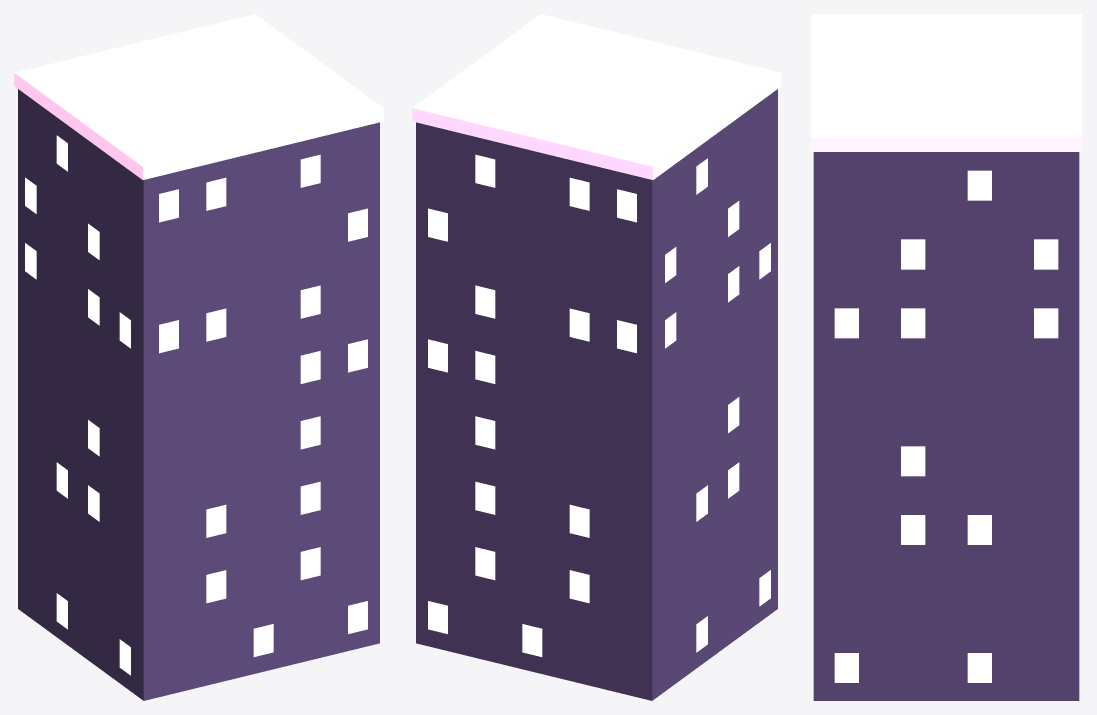
The model's file is skyline-v2-right-medium.glb.
The picture shows the model from 3 angles, left to right: view 1: azimuth 30°, elevation 25°; view 2: azimuth 150°, elevation 25°; view 3: azimuth 270°, elevation 25°; orthographic projection. The views are drawn at different scales.
Visible parts, largest first — view 1: skyline-v2-right-medium_0, skyline-v2-right-medium_4, skyline-v2-right-medium_1, skyline-v2-right-medium_2, skyline-v2-right-medium_3; view 2: skyline-v2-right-medium_0, skyline-v2-right-medium_4, skyline-v2-right-medium_1, skyline-v2-right-medium_2, skyline-v2-right-medium_3; view 3: skyline-v2-right-medium_0, skyline-v2-right-medium_4, skyline-v2-right-medium_1, skyline-v2-right-medium_2, skyline-v2-right-medium_3.
Part boxes in pixels (bbox=[...]): skyline-v2-right-medium_0: bbox=[18, 89, 379, 700]; skyline-v2-right-medium_4: bbox=[14, 14, 383, 179]; skyline-v2-right-medium_1: bbox=[25, 177, 367, 675]; skyline-v2-right-medium_2: bbox=[25, 154, 367, 656]; skyline-v2-right-medium_3: bbox=[56, 135, 320, 603]; skyline-v2-right-medium_0: bbox=[416, 89, 777, 700]; skyline-v2-right-medium_4: bbox=[412, 14, 781, 179]; skyline-v2-right-medium_1: bbox=[428, 177, 770, 652]; skyline-v2-right-medium_2: bbox=[428, 154, 739, 656]; skyline-v2-right-medium_3: bbox=[475, 158, 707, 603]; skyline-v2-right-medium_0: bbox=[813, 152, 1079, 700]; skyline-v2-right-medium_4: bbox=[811, 14, 1081, 151]; skyline-v2-right-medium_1: bbox=[834, 308, 1058, 682]; skyline-v2-right-medium_2: bbox=[901, 239, 1058, 544]; skyline-v2-right-medium_3: bbox=[967, 170, 991, 200].
Bounding box in the file's own units: 2.66 × 5.63 × 2.46.
